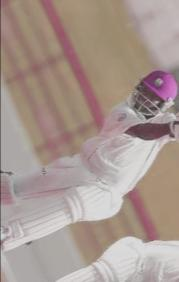batsman: (0, 38, 179, 282)
